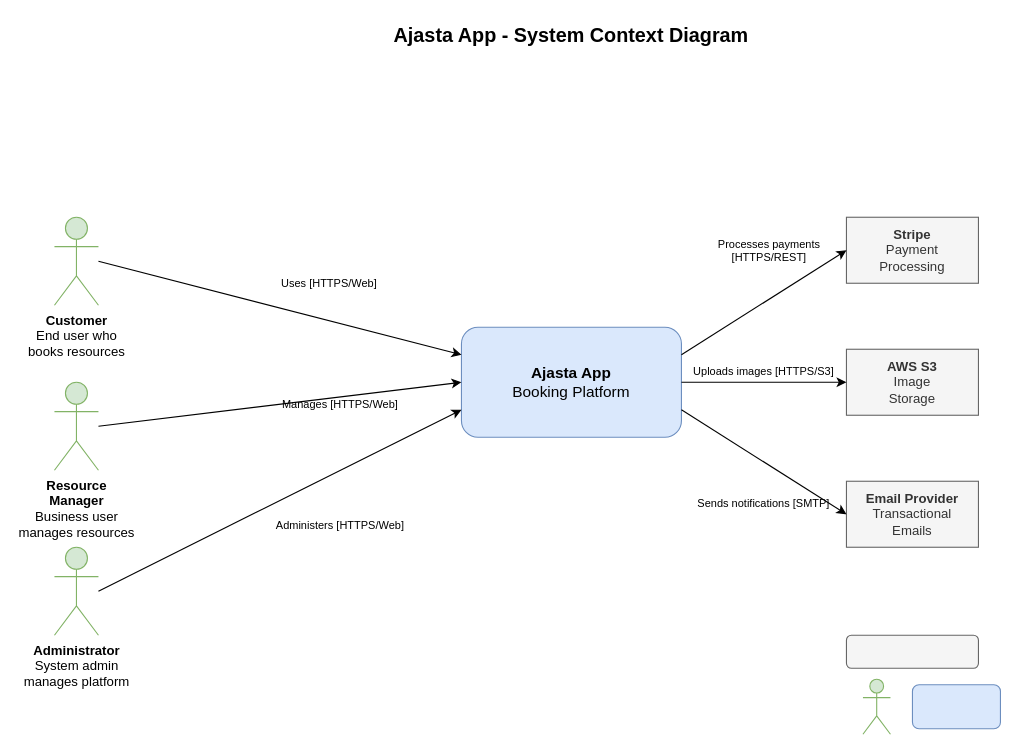
The diagram is 1020 pixels wide and 754 high, and some of its shapes have lost their labels. The centre of each missing label's shape, as x and y in pixels:
Legend: the point at 911,651
Person: the point at 876,706
Software System: the point at 955,706
